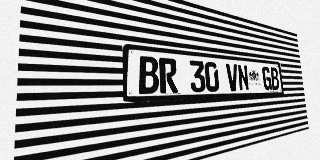0: (204, 61, 219, 92)
3: (189, 60, 206, 92)
B: (138, 56, 159, 94), (270, 67, 280, 90)
G: (262, 66, 272, 90)
N: (237, 64, 249, 91)
R: (159, 58, 178, 93)
V: (226, 63, 239, 91)
